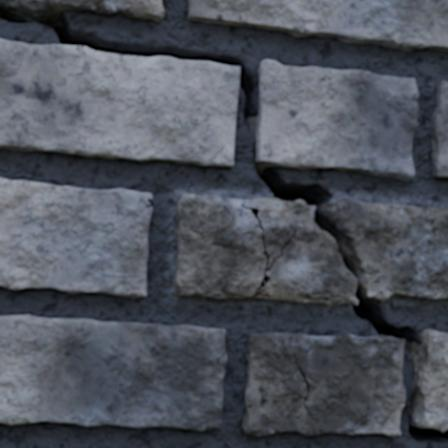brick: (0, 39, 238, 166), (0, 315, 226, 430), (258, 60, 419, 180), (0, 179, 151, 298), (242, 333, 404, 435), (189, 0, 447, 51), (0, 0, 164, 20), (417, 330, 447, 430), (431, 82, 447, 177)
broken_brick: (174, 194, 356, 307), (328, 200, 447, 302)
crack: (0, 2, 447, 445), (240, 203, 298, 301), (212, 351, 227, 366), (145, 198, 152, 208)
